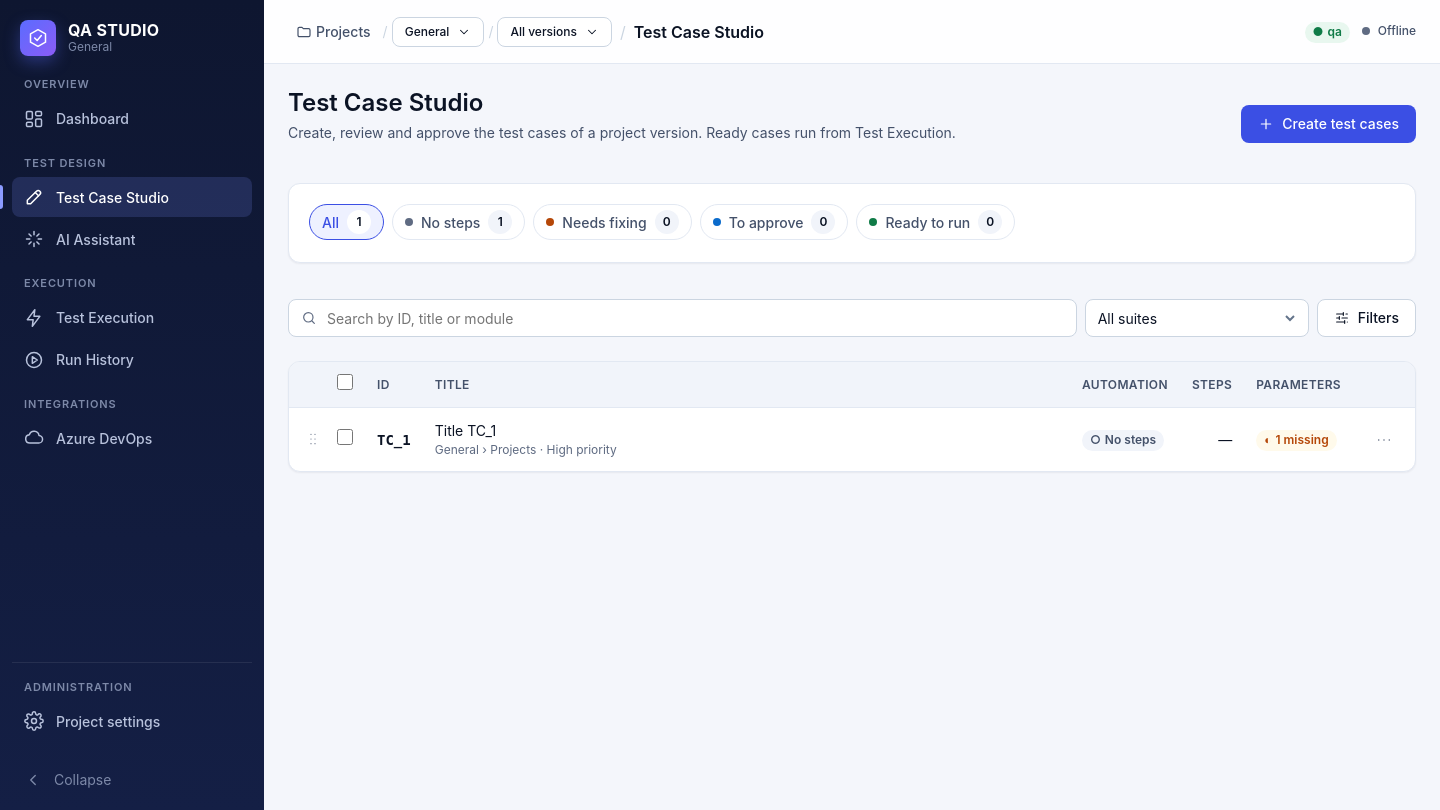
Test: filing test cases › switching project in the header opens the same page in the other project
Expected: the column heading "TC_1" is shown, [365,408,423,471]
Click the button with aria-label "Switch project": (438, 32) [392,16,484,46]
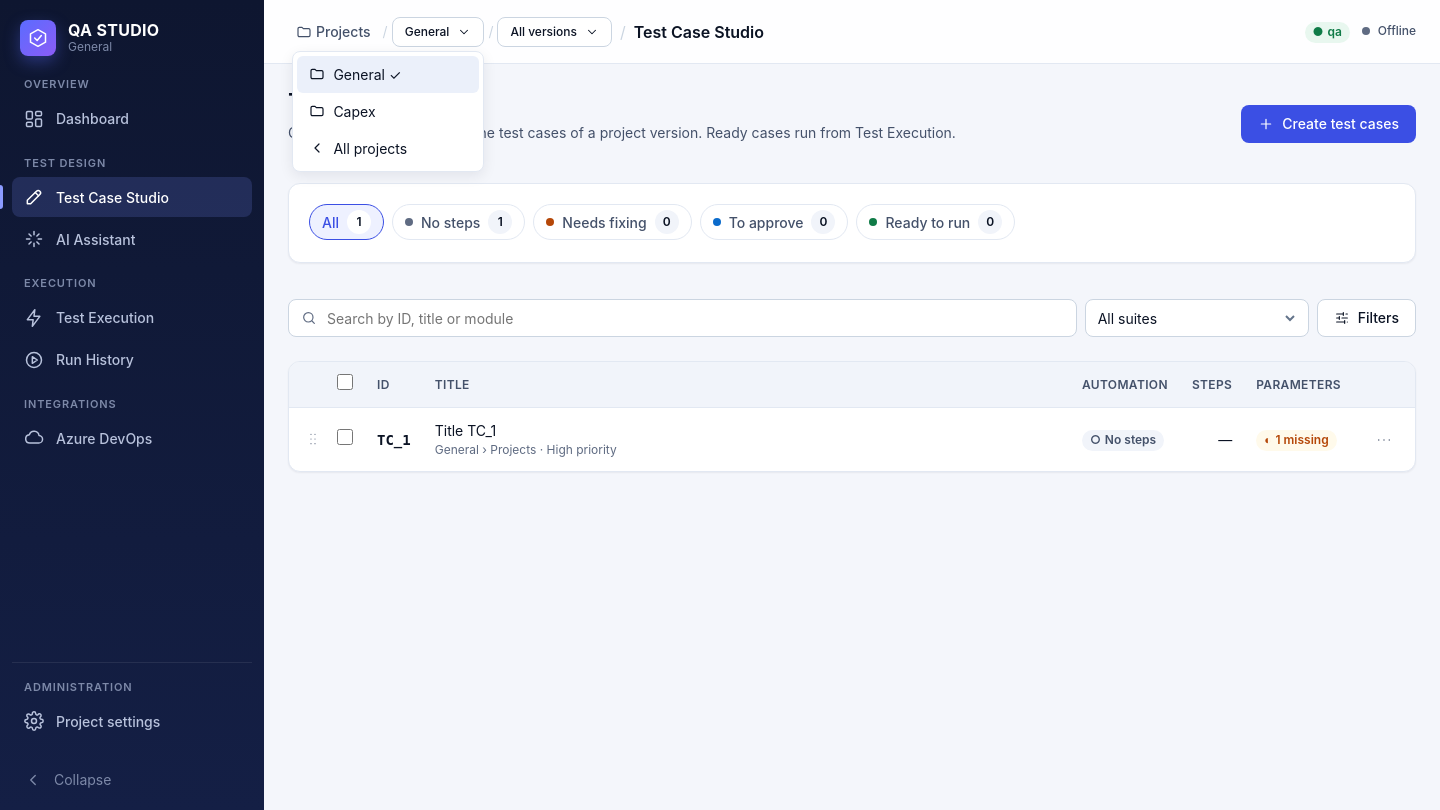
Click the menu item "Capex": (388, 111) [297,92,479,130]
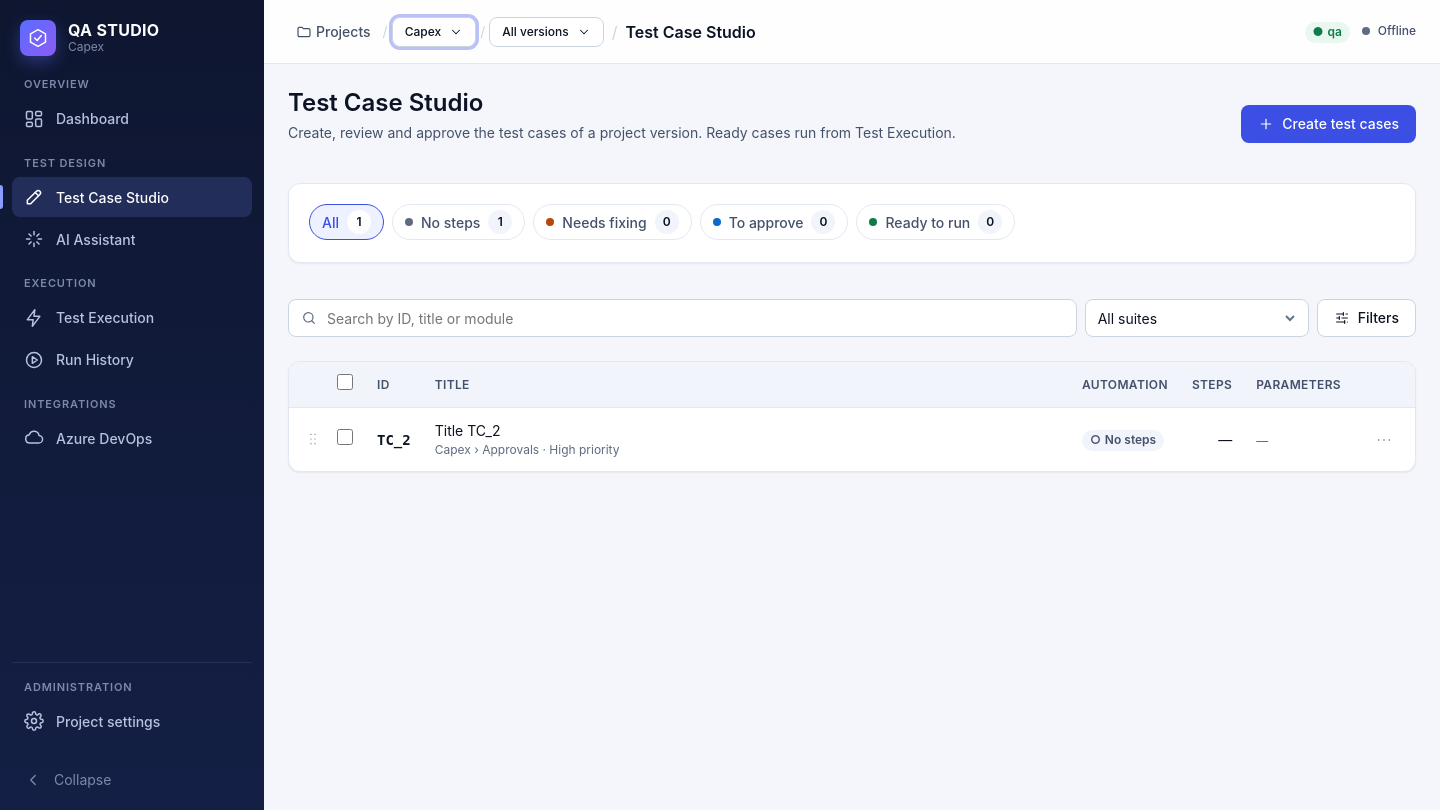
Expected: the column heading "TC_2" is shown, [365,408,423,471]
Expected: the text "TC_1" is gone
